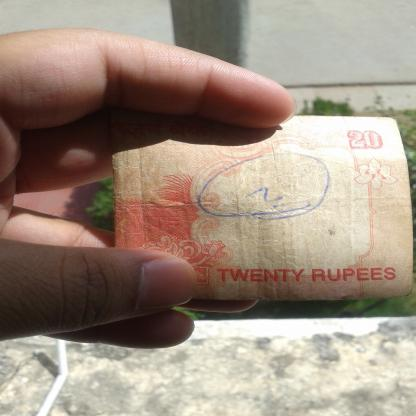Old20Back: (111, 113, 406, 299)
